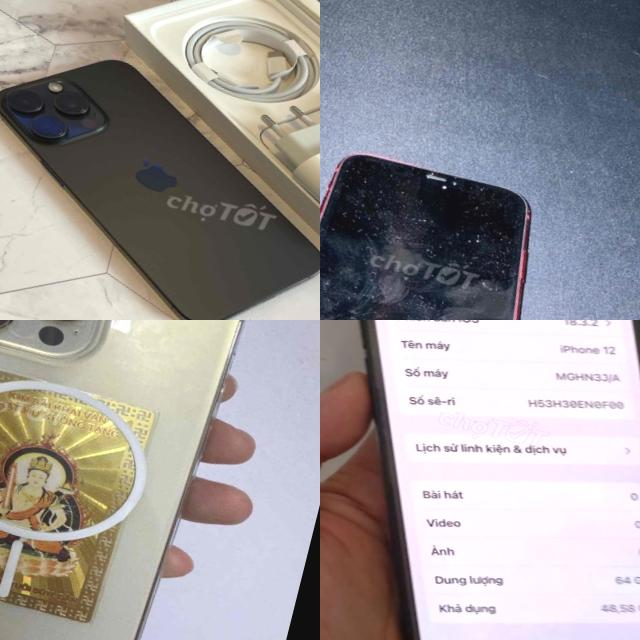scratch: (320, 218, 512, 320), (330, 168, 510, 258), (352, 147, 518, 203), (320, 282, 509, 320)
